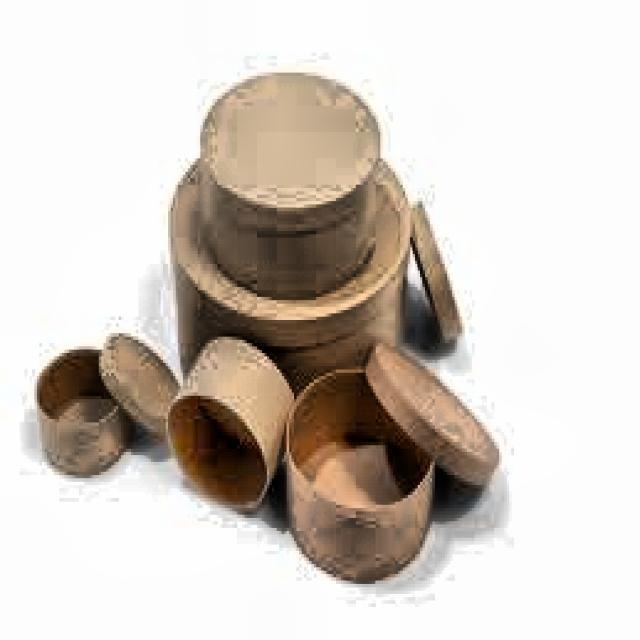cardboard: (34, 66, 500, 581)
